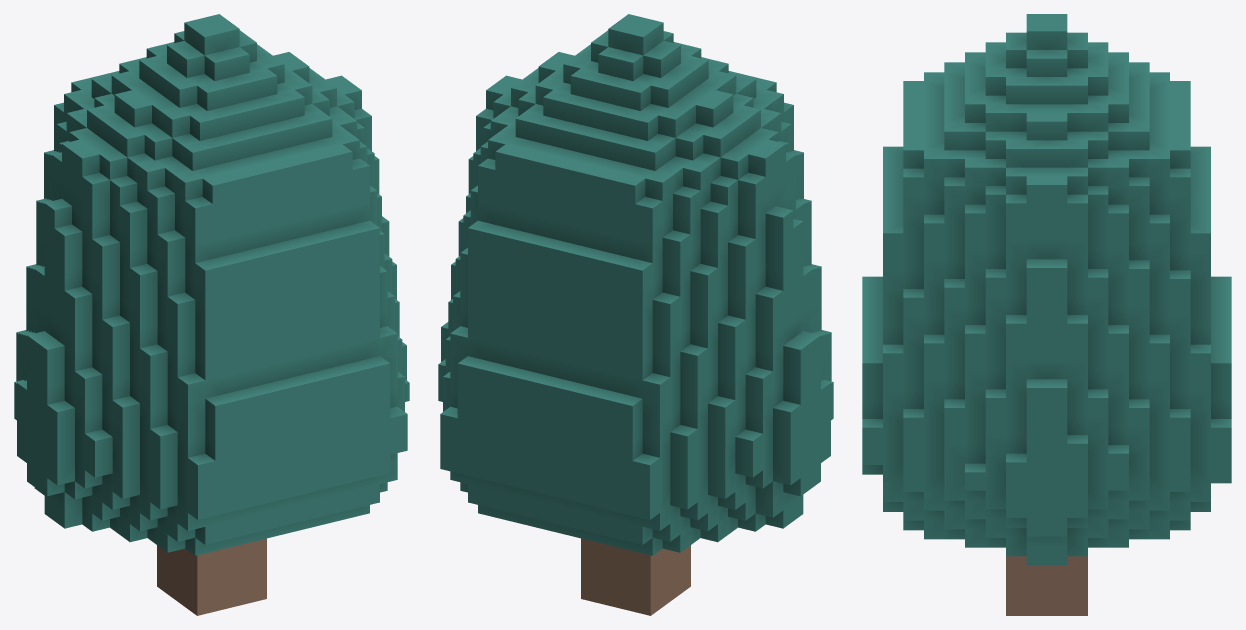
Rendered from tree_fat.glb.
3 views of the same model, side by side, from view 1: azimuth 30°, elevation 25°; view 2: azimuth 150°, elevation 25°; view 3: azimuth 270°, elevation 25° (orthographic).
Visible parts, largest first — view 1: voxels; view 2: voxels; view 3: voxels.
Part boxes in pixels (x1,y1,x2,y2): voxels: (14,14,409,615); voxels: (438,14,833,615); voxels: (862,14,1231,615).
Bounding box in the file's own units: 0.767 × 1.19 × 0.6902.
